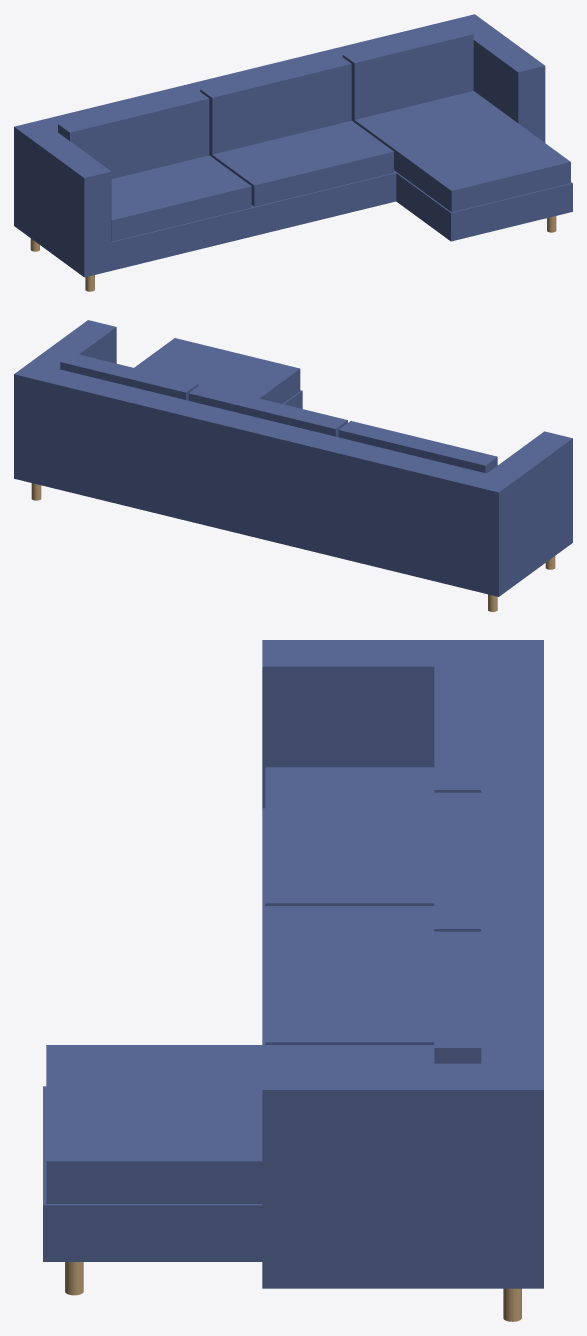
File: sofa-1.glb
The picture shows the model from 3 angles, top to bottom: view 1: azimuth 30°, elevation 25°; view 2: azimuth 150°, elevation 25°; view 3: azimuth 270°, elevation 25°; orthographic projection. The views are drawn at different scales.
Parts seen in each view (by area): view 1: Modern Sectional Sofa with Chaise-Stacked Shapes-Cube-cube.0 (×4), Modern Sectional Sofa with Chaise-Cube-cube.005, Modern Sectional Sofa with Chaise-Cube-cube.002, Modern Sectional Sofa with Chaise-Cube-cube, Modern Sectional Sofa with Chaise-Stacked Shapes-Cube-cube, Modern Sectional Sofa with Chaise-Cube-cube.003, Modern Sectional Sofa with Chaise-Cube-cube.001, Modern Sectional Sofa with Chaise-Cube-cube.004; view 2: Modern Sectional Sofa with Chaise-Cube-cube.004, Modern Sectional Sofa with Chaise-Cube-cube.002, Modern Sectional Sofa with Chaise-Cube-cube, Modern Sectional Sofa with Chaise-Stacked Shapes-Cube-cube.0 (×3), Modern Sectional Sofa with Chaise-Cube-cube.005, Modern Sectional Sofa with Chaise-Cube-cube.003, Modern Sectional Sofa with Chaise-Cube-cube.001; view 3: Modern Sectional Sofa with Chaise-Cube-cube.003, Modern Sectional Sofa with Chaise-Stacked Shapes-Cube-cube.0 (×4), Modern Sectional Sofa with Chaise-Cube-cube.005, Modern Sectional Sofa with Chaise-Cube-cube.004, Modern Sectional Sofa with Chaise-Cube-cube.002, Modern Sectional Sofa with Chaise-Stacked Shapes-Cube-cube, Modern Sectional Sofa with Chaise-Cube-cube.001, Modern Sectional Sofa with Chaise-Cube-cube.
Boxes of the visible parts, x1,y1,x2,y2 form: Modern Sectional Sofa with Chaise-Stacked Shapes-Cube-cube.0 (×4): (58, 25, 473, 206); Modern Sectional Sofa with Chaise-Cube-cube.005: (351, 91, 570, 212); Modern Sectional Sofa with Chaise-Cube-cube.002: (14, 120, 111, 277); Modern Sectional Sofa with Chaise-Cube-cube: (111, 172, 396, 270); Modern Sectional Sofa with Chaise-Stacked Shapes-Cube-cube: (111, 155, 251, 241); Modern Sectional Sofa with Chaise-Cube-cube.003: (448, 14, 545, 142); Modern Sectional Sofa with Chaise-Cube-cube.001: (394, 170, 572, 241); Modern Sectional Sofa with Chaise-Cube-cube.004: (41, 21, 455, 131); Modern Sectional Sofa with Chaise-Cube-cube.004: (42, 369, 486, 559); Modern Sectional Sofa with Chaise-Cube-cube.002: (470, 431, 572, 596); Modern Sectional Sofa with Chaise-Cube-cube: (171, 487, 470, 589); Modern Sectional Sofa with Chaise-Stacked Shapes-Cube-cube.0 (×3): (60, 353, 497, 473); Modern Sectional Sofa with Chaise-Cube-cube.005: (134, 338, 300, 403); Modern Sectional Sofa with Chaise-Cube-cube.003: (14, 320, 116, 485); Modern Sectional Sofa with Chaise-Cube-cube.001: (42, 390, 302, 516); Modern Sectional Sofa with Chaise-Cube-cube.003: (262, 1063, 543, 1288); Modern Sectional Sofa with Chaise-Stacked Shapes-Cube-cube.0 (×4): (265, 653, 481, 1063); Modern Sectional Sofa with Chaise-Cube-cube.005: (46, 1045, 434, 1203); Modern Sectional Sofa with Chaise-Cube-cube.004: (481, 666, 543, 1063); Modern Sectional Sofa with Chaise-Cube-cube.002: (262, 640, 543, 808); Modern Sectional Sofa with Chaise-Stacked Shapes-Cube-cube: (265, 767, 434, 905); Modern Sectional Sofa with Chaise-Cube-cube.001: (43, 1086, 262, 1261); Modern Sectional Sofa with Chaise-Cube-cube: (262, 808, 265, 1044).
Size of the model in its own units: 3.4 by 0.9 by 1.6.
